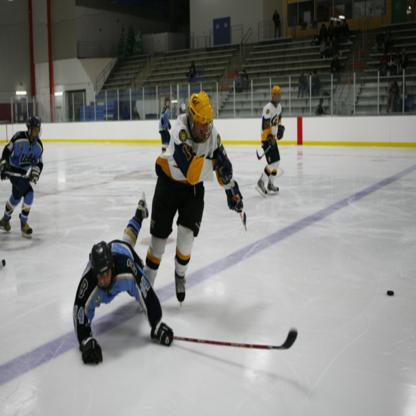Helmet: (87, 236, 115, 293), (187, 92, 216, 142), (24, 115, 44, 142), (270, 82, 284, 106), (164, 97, 173, 113)
